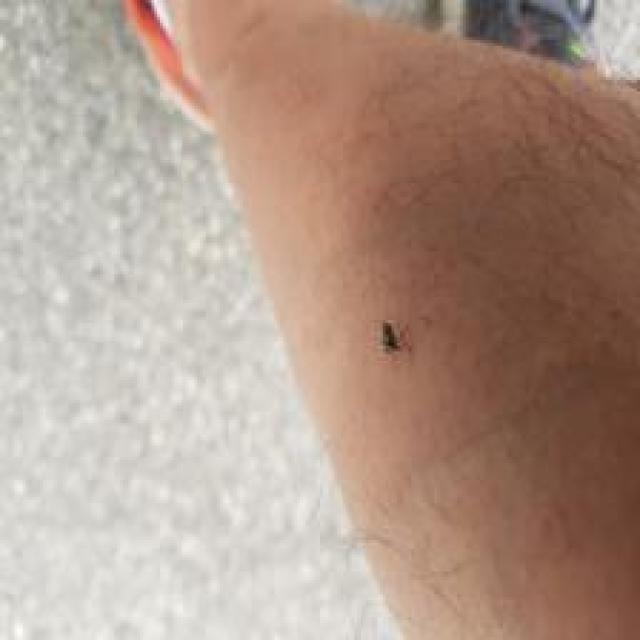Aedes albopictus: (456, 0, 601, 69)
